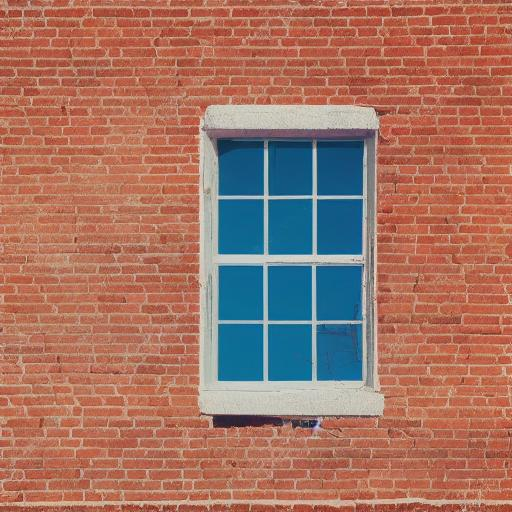Window: (193, 103, 389, 421)
